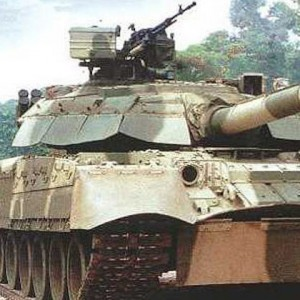Battle Tank: (1, 35, 299, 300)
